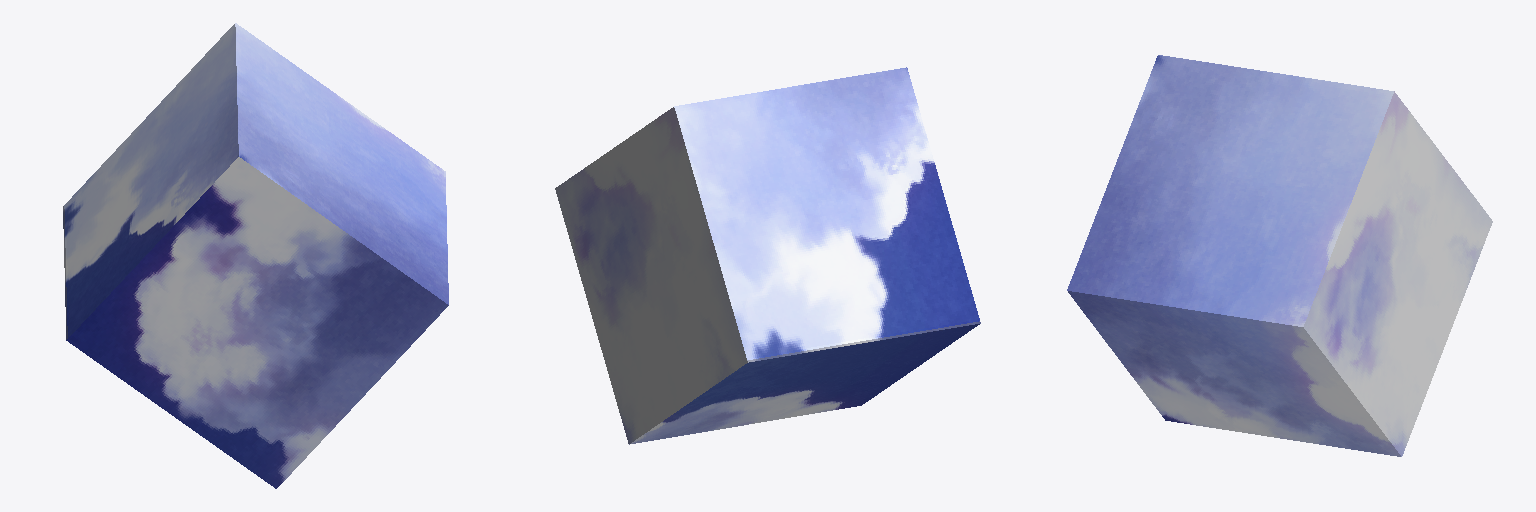
3 renders of one model, left to right at view 1: azimuth 30°, elevation 25°; view 2: azimuth 150°, elevation 25°; view 3: azimuth 270°, elevation 25°, orthographic.
Parts seen in each view (by area): view 1: Cube; view 2: Cube; view 3: Cube.
Part boxes in pixels (x1,y1,x2,y2): Cube: (63,23,448,488); Cube: (555,67,980,444); Cube: (1067,55,1492,456).
Bounding box in the file's own units: 3.42 × 2.96 × 3.13.
1 materials, 1 textured.